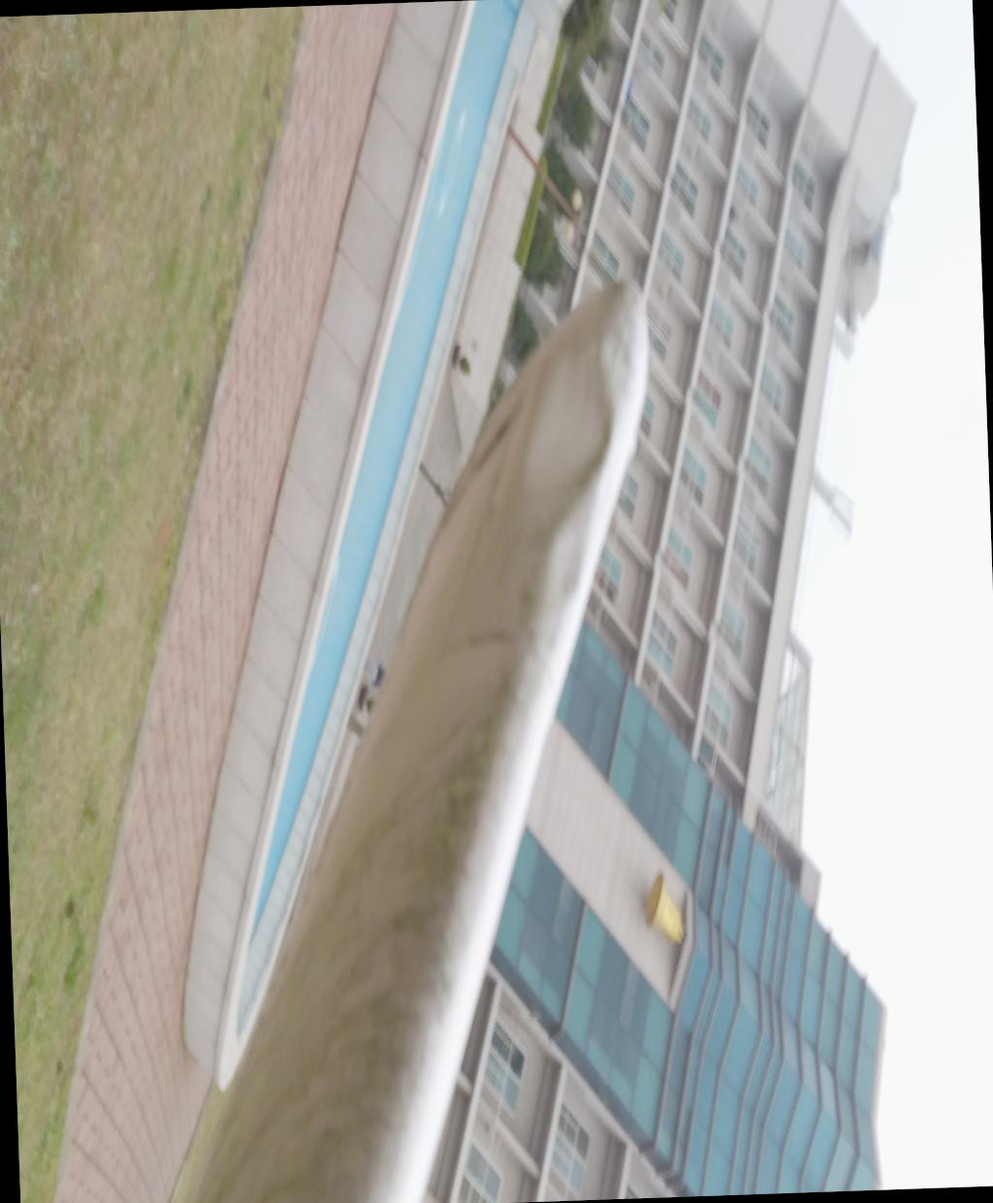dent: (636, 865, 734, 1095), (718, 931, 774, 1039)
